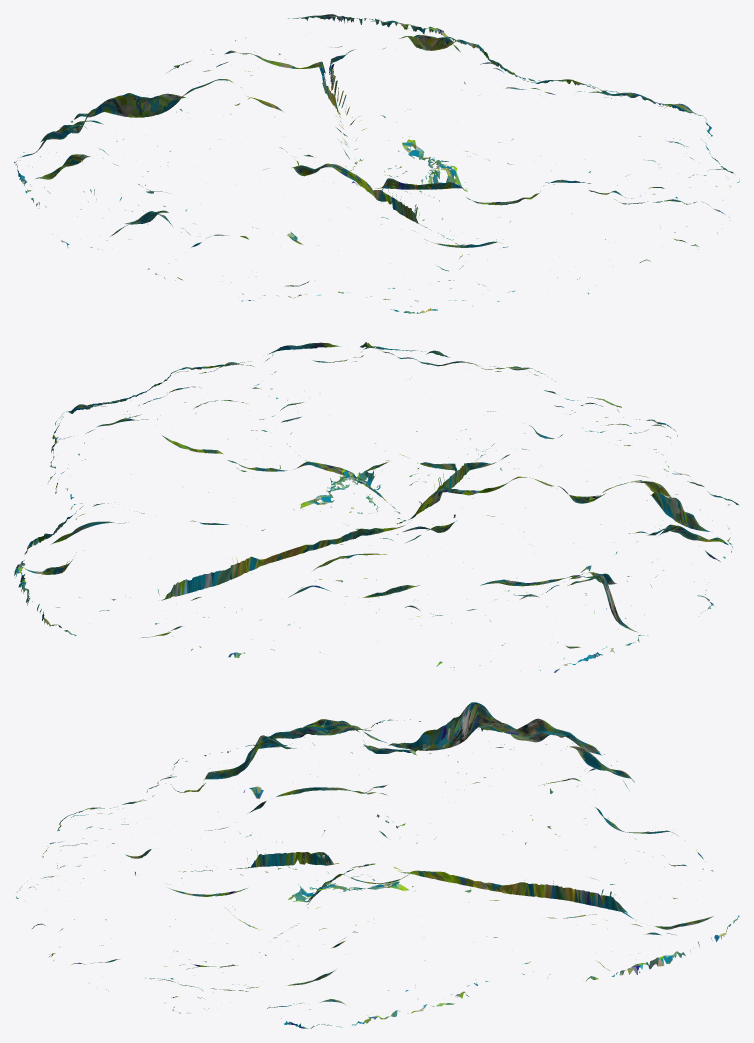
Rendered from c2_scan.glb.
3 views of the same model, one above another, from view 1: azimuth 30°, elevation 25°; view 2: azimuth 150°, elevation 25°; view 3: azimuth 270°, elevation 25° (orthographic). The views are drawn at different scales.
Bounding box in the file's own units: 2000 × 159 × 2000.
Materials: 4 (4 with a texture image).
